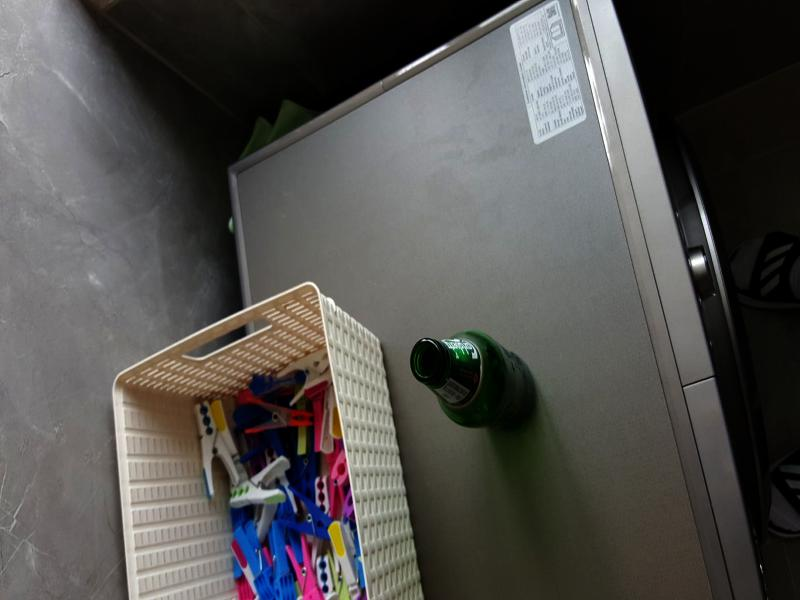Beer: (411, 337, 537, 430)
